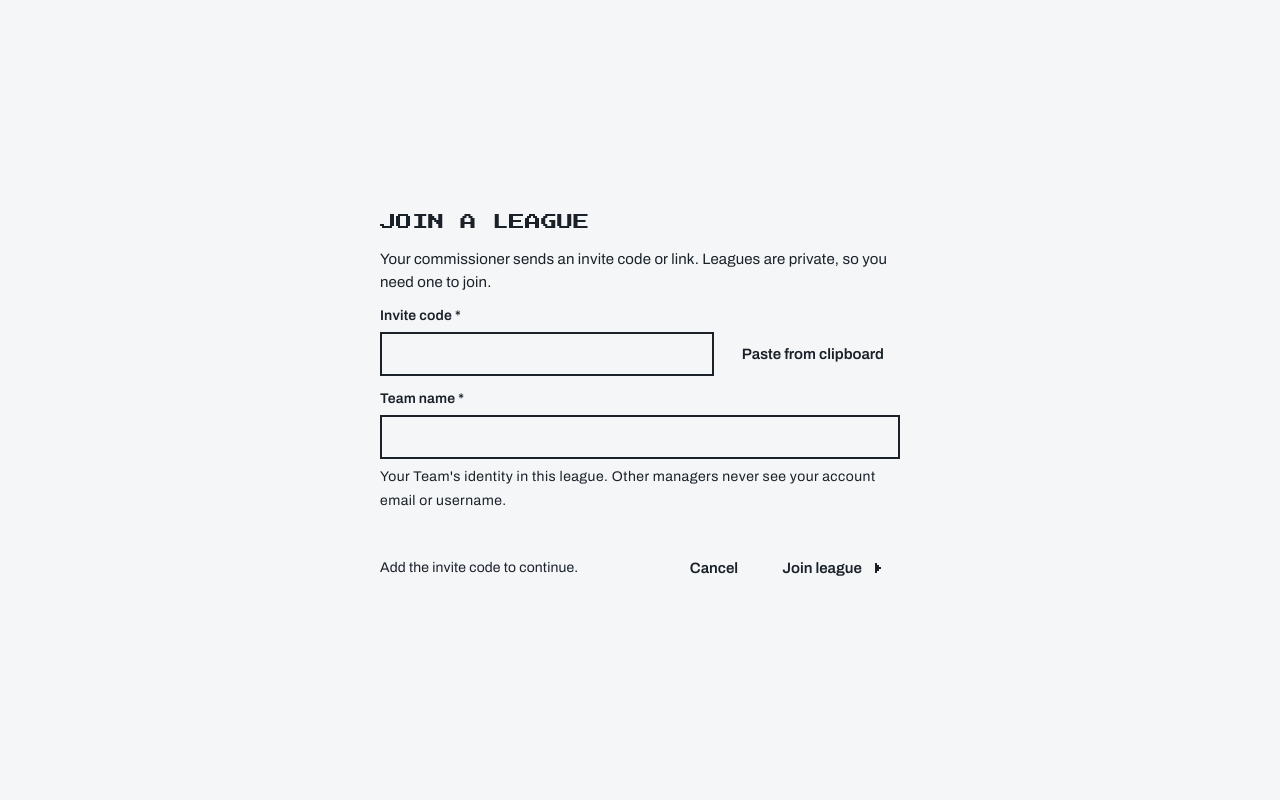
Test case: a 9-character code reads as still being typed: no lookup and not marked wrong
Type "a1b2c3d4e" into the field labelled "Invite code *" at (547, 354), box 380,332 -> 714,376
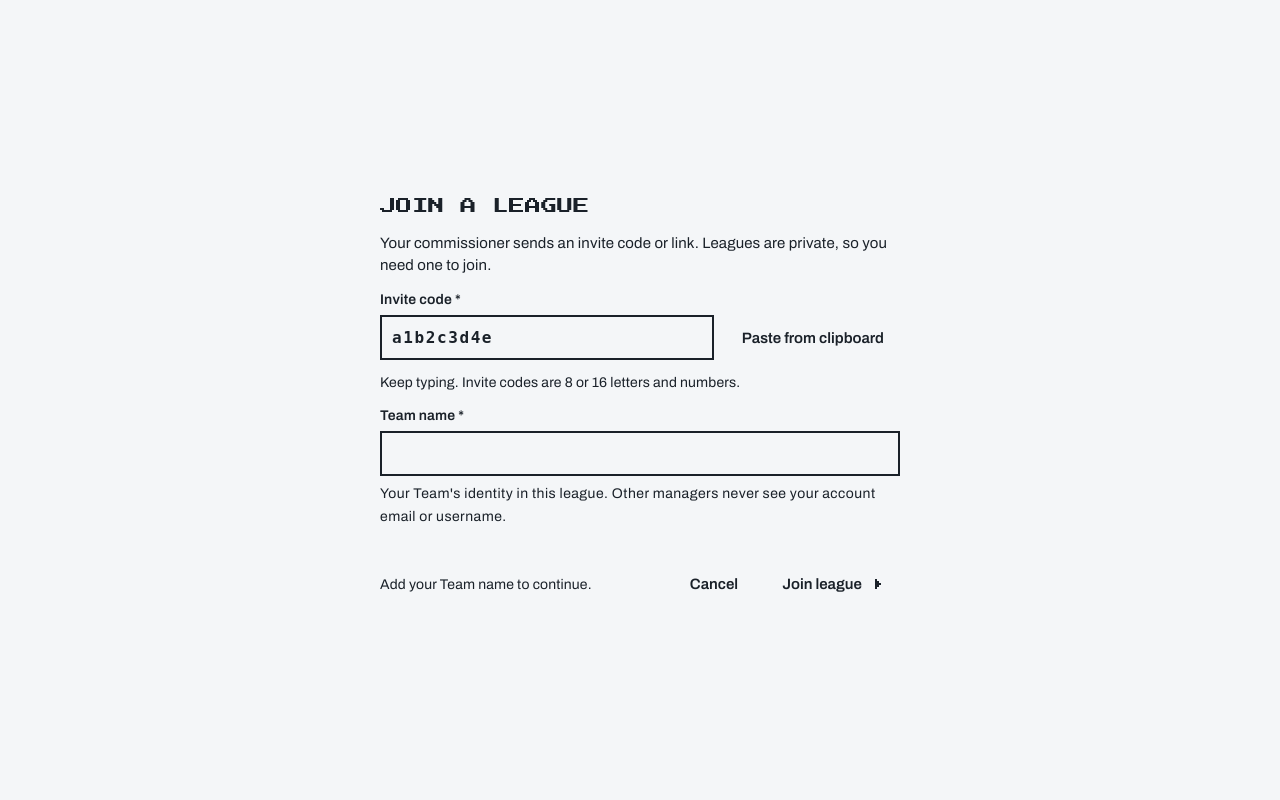
Expected: the text "Keep typing. Invite codes are 8 or 16 letters and numbers." is shown, 380,375 -> 740,390
